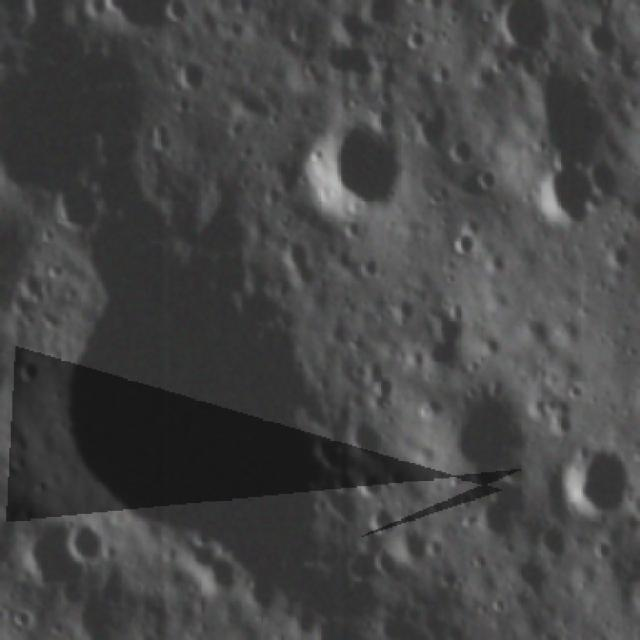crater: (29, 256, 340, 569), (421, 384, 530, 488), (312, 115, 413, 227), (523, 62, 625, 167), (550, 432, 630, 525), (538, 155, 597, 234), (497, 0, 562, 58), (44, 182, 108, 238), (324, 35, 384, 90), (464, 496, 516, 544), (342, 412, 386, 468), (582, 13, 629, 65), (387, 522, 438, 566), (586, 153, 622, 213), (65, 514, 108, 564), (323, 481, 365, 532), (538, 519, 576, 575), (168, 50, 207, 96), (408, 107, 449, 148), (446, 132, 480, 176), (366, 497, 400, 538), (476, 162, 502, 195), (448, 229, 478, 256)
